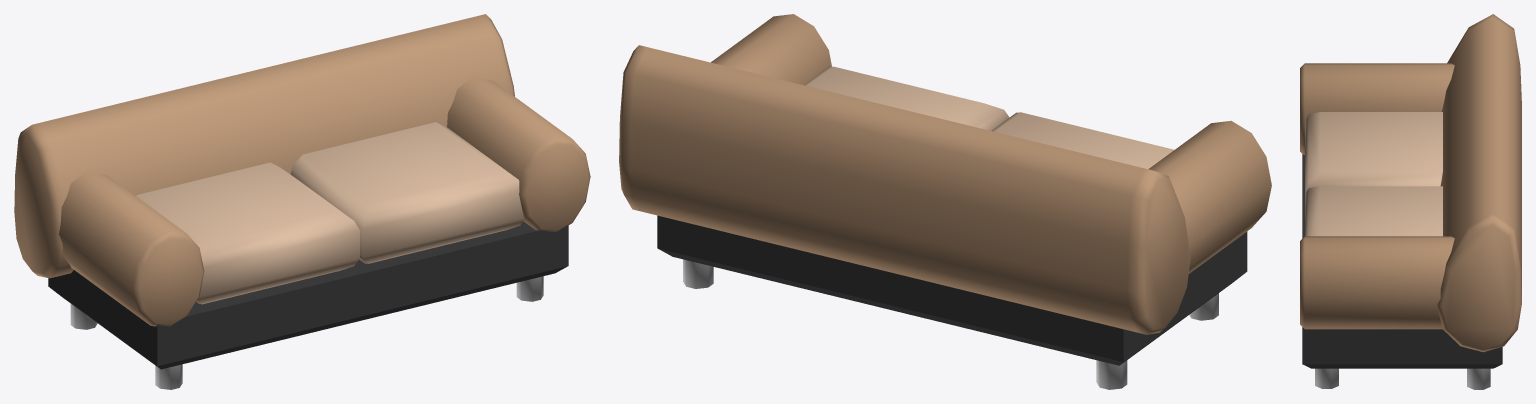
The model's file is sofa_5.glb.
3 views of the same model, side by side, from view 1: azimuth 30°, elevation 25°; view 2: azimuth 150°, elevation 25°; view 3: azimuth 270°, elevation 25° (orthographic). The views are drawn at different scales.
Parts seen in each view (by area): view 1: Sofa 2; view 2: Sofa 2; view 3: Sofa 2.
Part boxes in pixels (x1,y1,x2,y2): Sofa 2: (14, 14, 590, 389); Sofa 2: (619, 14, 1271, 389); Sofa 2: (1300, 14, 1521, 389).
Size of the model in its own units: 1.84 by 0.7752 by 0.8301.
Materials: 1 (1 with a texture image).
